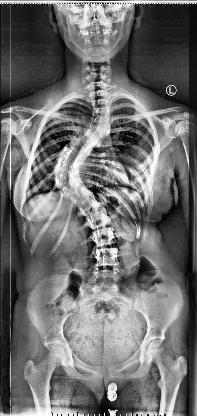Vertebrae: (64, 184, 94, 208), (73, 194, 105, 216), (81, 210, 113, 232), (56, 177, 82, 201), (86, 227, 117, 247), (91, 247, 119, 268), (84, 126, 108, 146), (64, 136, 90, 154), (77, 129, 99, 149), (53, 170, 77, 188), (56, 146, 78, 164), (50, 158, 74, 174), (90, 119, 112, 132), (92, 112, 112, 124), (92, 104, 112, 114)
